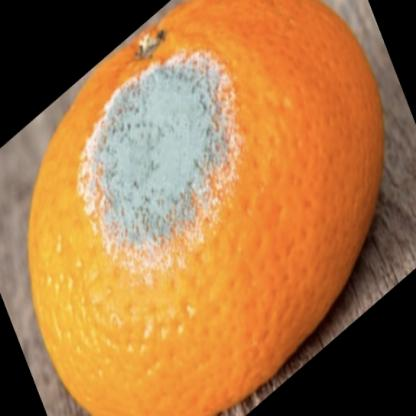rotten: (31, 1, 384, 416)
